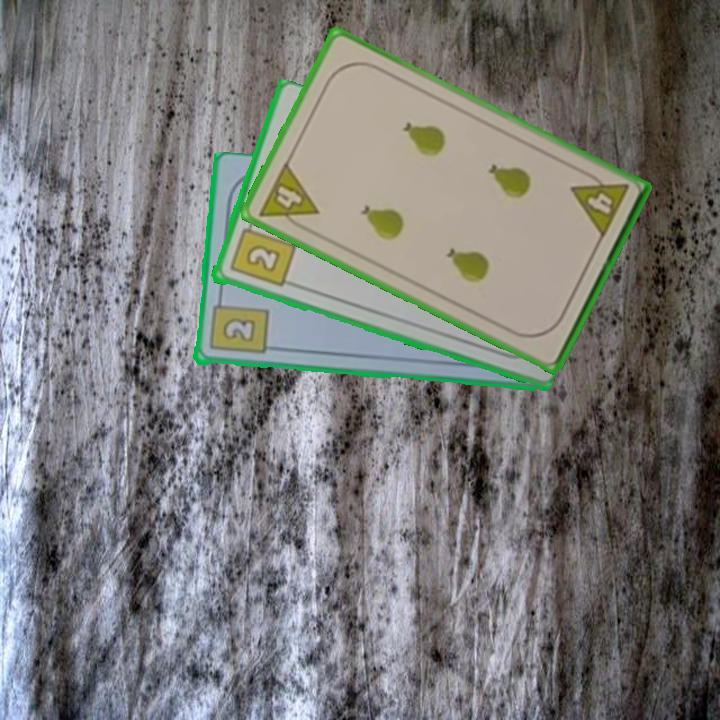2b: (226, 216, 297, 290), (206, 292, 270, 358)
4p: (254, 158, 322, 236), (567, 166, 632, 242)
